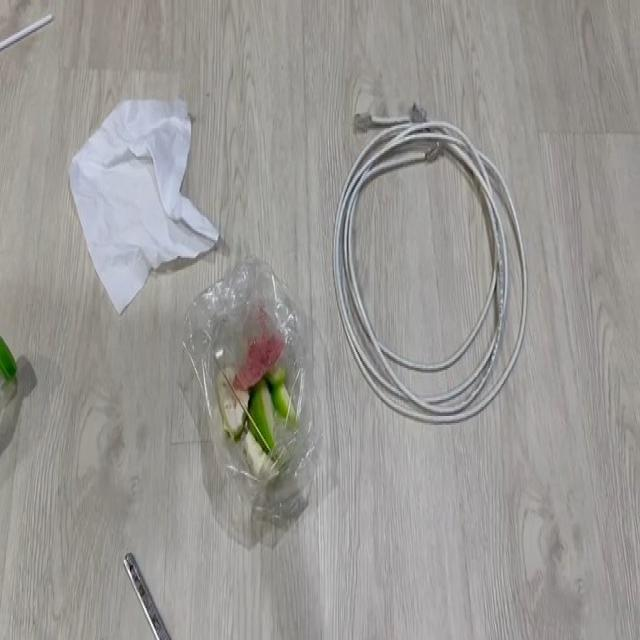Anorganik: (75, 74, 213, 298), (131, 531, 197, 640), (0, 359, 41, 493), (0, 22, 57, 87)
B3: (348, 109, 520, 410), (200, 276, 345, 516)
